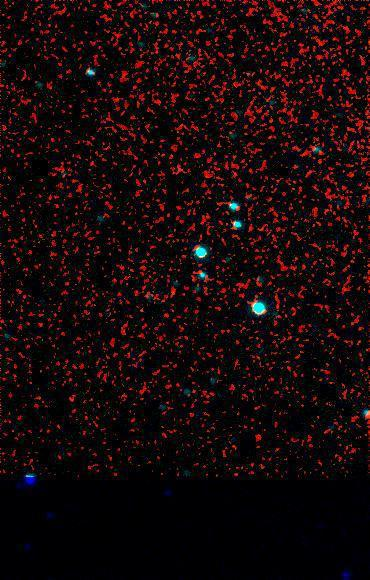star: (158, 276, 188, 306)
